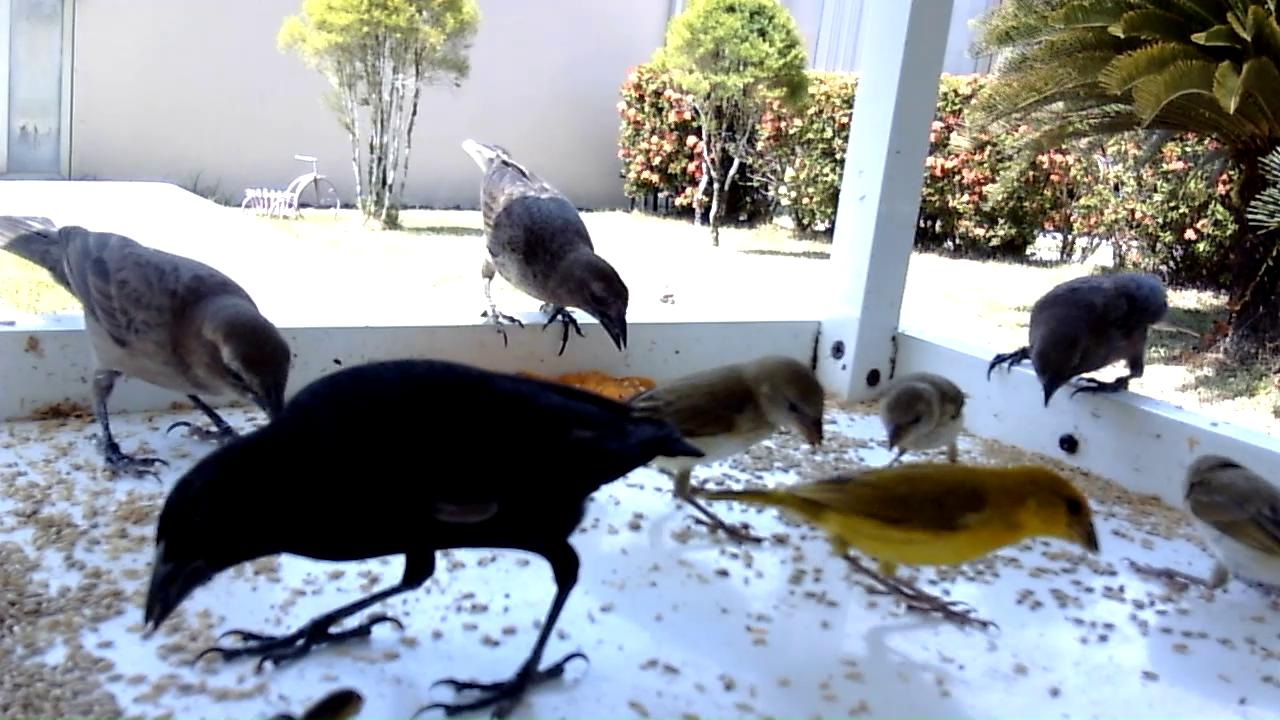canario_do_amazonas: (686, 461, 1107, 637), (621, 351, 833, 548), (1119, 448, 1280, 599), (873, 368, 971, 470)
chupim: (141, 357, 711, 720), (1, 213, 297, 489), (457, 134, 635, 367), (982, 267, 1209, 417)
